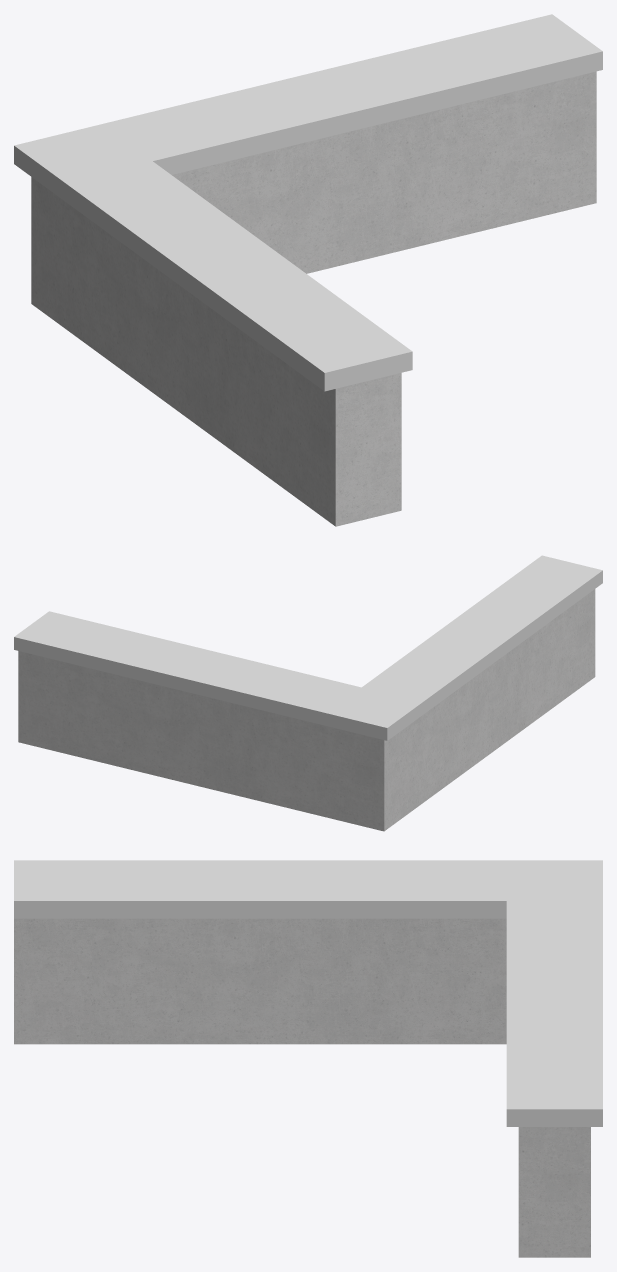
File: MB_Parapet_A_Angle_01.fbx
3 renders of one model, top to bottom at view 1: azimuth 30°, elevation 25°; view 2: azimuth 150°, elevation 25°; view 3: azimuth 270°, elevation 25°, orthographic. The views are drawn at different scales.
Visible parts, largest first — view 1: MB_Parapet_Angle_A_01; view 2: MB_Parapet_Angle_A_01; view 3: MB_Parapet_Angle_A_01.
Part boxes in pixels (box(x1,y1,x2,y2)): MB_Parapet_Angle_A_01: box(14, 14, 602, 526); MB_Parapet_Angle_A_01: box(14, 555, 602, 831); MB_Parapet_Angle_A_01: box(14, 860, 602, 1257).
Bounding box in the file's own units: 408 × 113 × 408.
